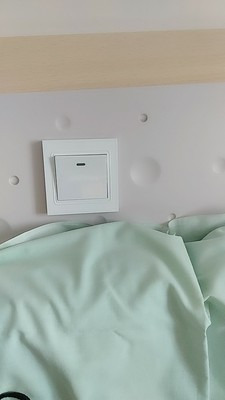switch: (55, 153, 116, 204)
